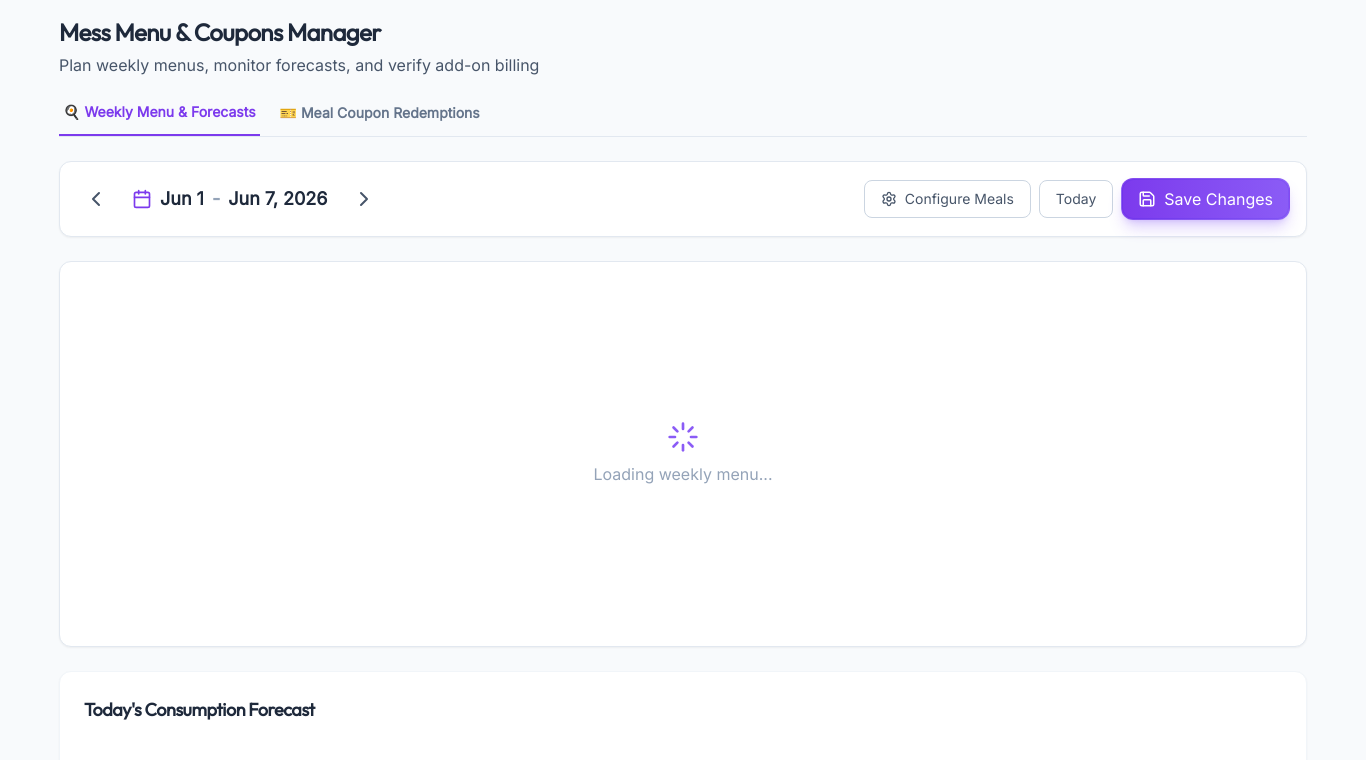
Test case: MessManagement Component – Owner › shows loading state in vouchers tab while fetching
The width and height of the screenshot is (1366, 760).
Click the button "🎫 Meal Coupon Redemptions" at (380, 119), box [276,102,484,136]
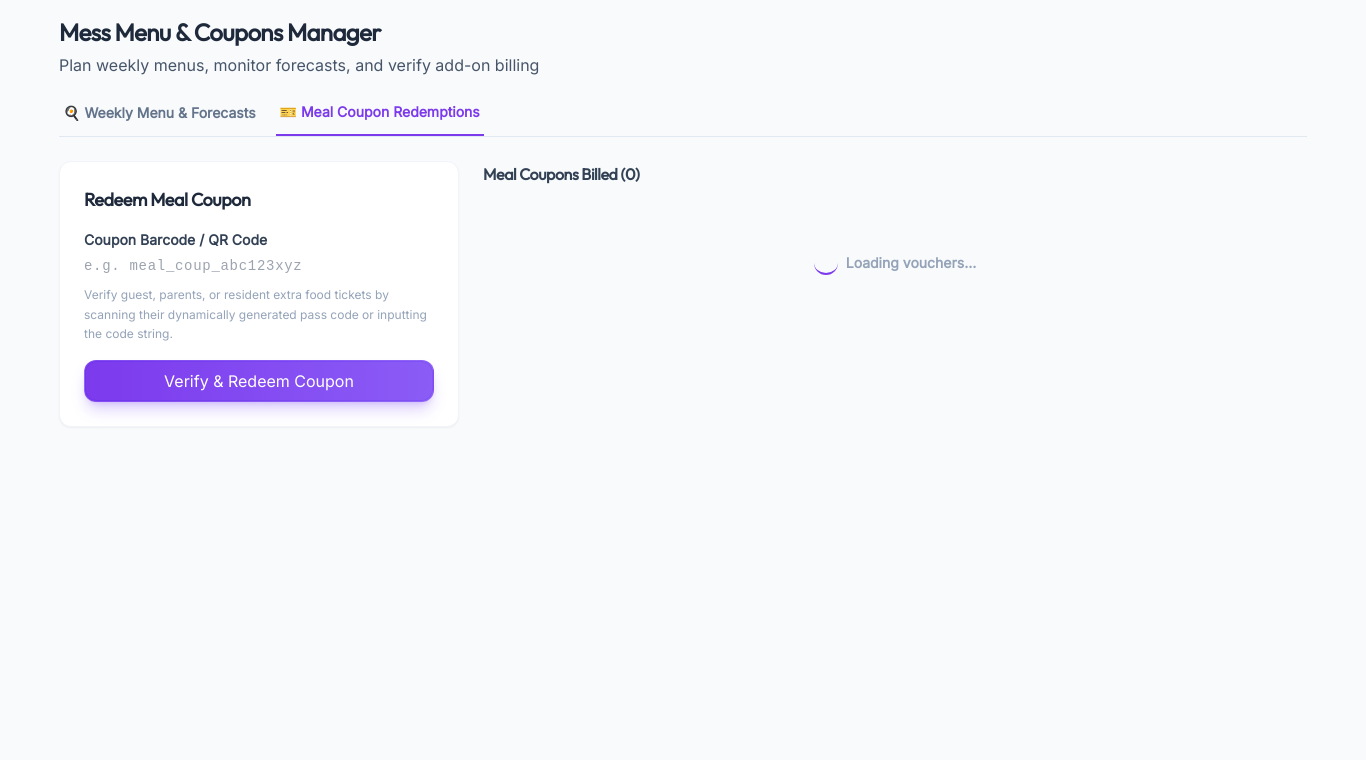
expect the text "Loading vouchers..." is shown: met, box [846,253,976,273]
